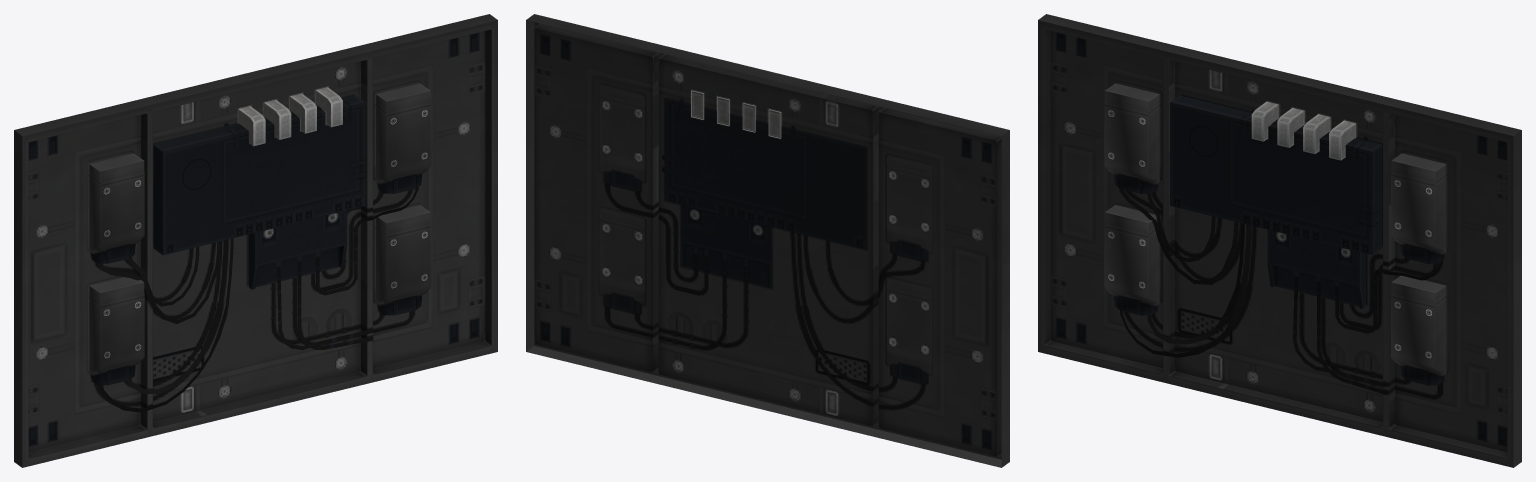
The model's file is Panel_C_1x1,5_2_L2.FBX.
3 views of the same model, side by side, from view 1: azimuth 30°, elevation 25°; view 2: azimuth 150°, elevation 25°; view 3: azimuth 330°, elevation 25° (orthographic).
Visible parts, largest first — view 1: Panel_C_1x1,5_2_L1; view 2: Panel_C_1x1,5_2_L1; view 3: Panel_C_1x1,5_2_L1.
Boxes of the visible parts, x1,y1,x2,y2 form: Panel_C_1x1,5_2_L1: (14, 14, 497, 467); Panel_C_1x1,5_2_L1: (526, 14, 1009, 467); Panel_C_1x1,5_2_L1: (1038, 14, 1521, 467).
Size of the model in its own units: 150 by 100 by 9.35.
